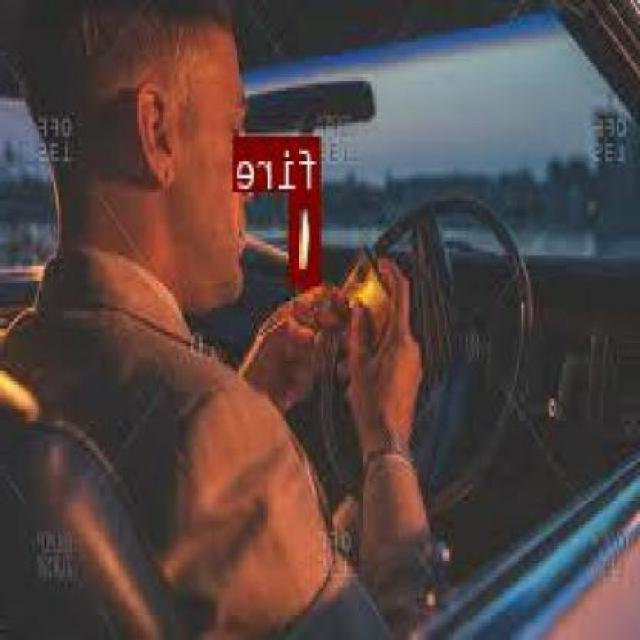fire: (292, 190, 323, 282)
